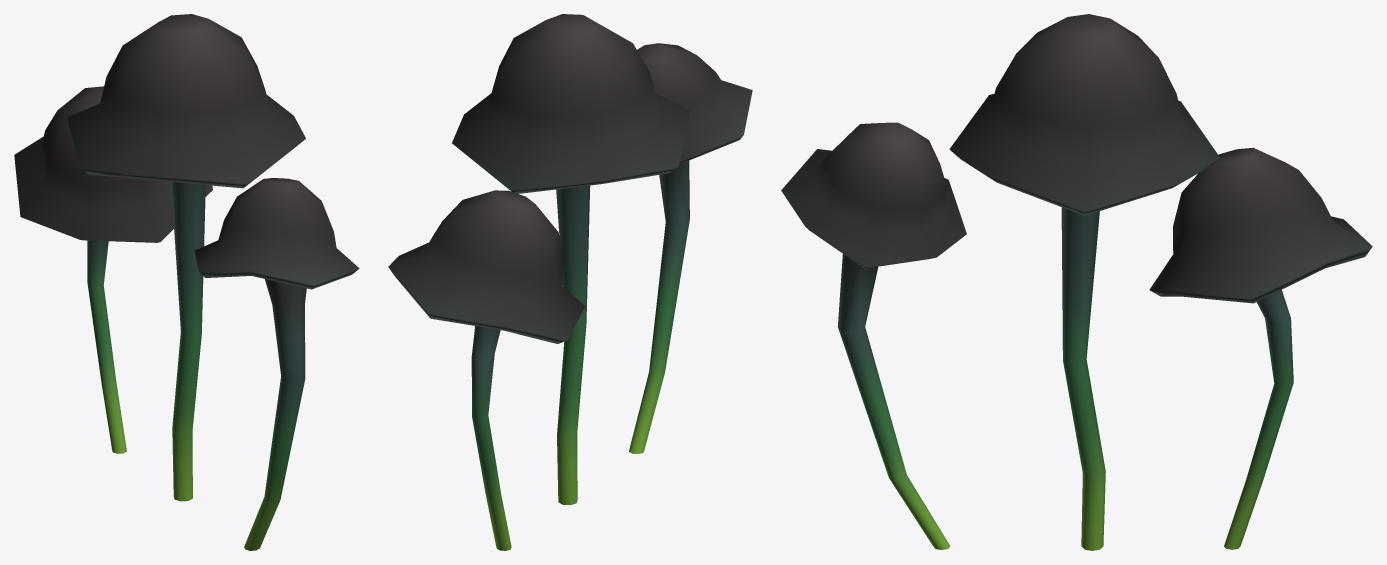
Rendered from mushrooms10.fbx.
3 renders of one model, left to right at view 1: azimuth 30°, elevation 25°; view 2: azimuth 150°, elevation 25°; view 3: azimuth 270°, elevation 25°, orthographic. The views are drawn at different scales.
Parts seen in each view (by area): view 1: mushrooms10; view 2: mushrooms10; view 3: mushrooms10.
Part boxes in pixels (box(x1,y1,x2,y2)): mushrooms10: box(14, 14, 359, 550); mushrooms10: box(388, 14, 752, 550); mushrooms10: box(781, 14, 1372, 550).
Bounding box in the file's own units: 242 × 513 × 528.
Materials: 1 (1 with a texture image).
